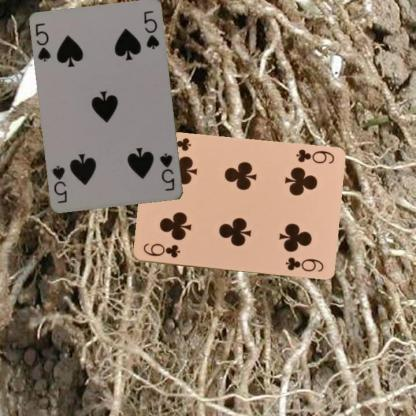5s: (33, 20, 53, 64), (158, 150, 176, 192)
6c: (140, 241, 182, 259), (293, 147, 335, 165)
